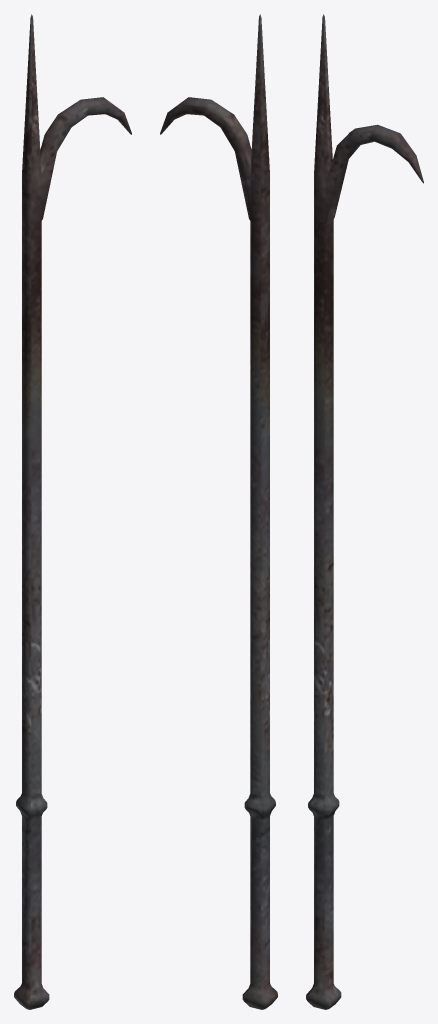
Rendered from SM_Poker.FBX.
The picture shows the model from 3 angles, left to right: view 1: azimuth 30°, elevation 25°; view 2: azimuth 150°, elevation 25°; view 3: azimuth 330°, elevation 25°; orthographic projection.
Visible parts, largest first — view 1: Box001; view 2: Box001; view 3: Box001.
Boxes of the visible parts, left/top/right/bottom form: Box001: left=14, top=14, right=131, bottom=1009; Box001: left=160, top=14, right=277, bottom=1009; Box001: left=306, top=14, right=423, bottom=1009.
Bounding box in the file's own units: 9.51 × 80.25 × 2.08.
